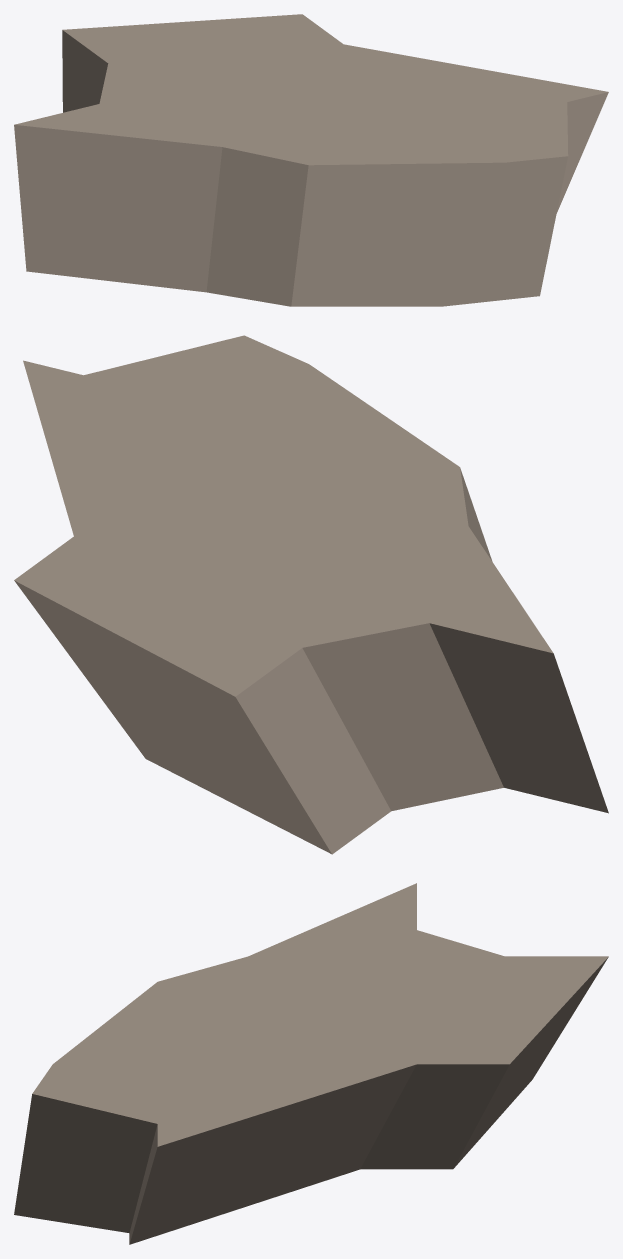
Rendered from Front_left_edge_broken_balcony_2.fbx.
The picture shows the model from 3 angles, top to bottom: view 1: azimuth 30°, elevation 25°; view 2: azimuth 150°, elevation 25°; view 3: azimuth 270°, elevation 25°; orthographic projection. The views are drawn at different scales.
Parts seen in each view (by area): view 1: polySurface605; view 2: polySurface605; view 3: polySurface605.
Part boxes in pixels (bbox=[...]): polySurface605: bbox=[14, 14, 608, 306]; polySurface605: bbox=[14, 335, 608, 854]; polySurface605: bbox=[14, 883, 608, 1244].
Size of the model in its own units: 2.12 by 0.5154 by 1.97.
